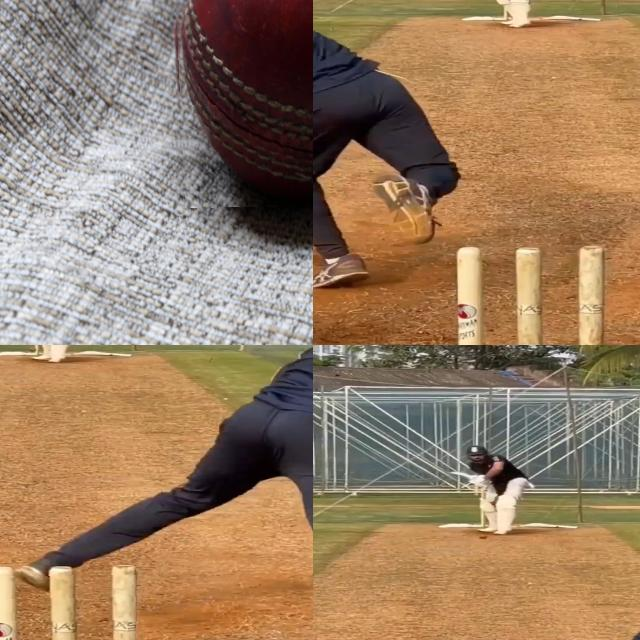Cricket ball: (171, 0, 313, 208), (479, 534, 487, 539)
Stumps: (453, 244, 610, 345), (0, 565, 135, 640)
